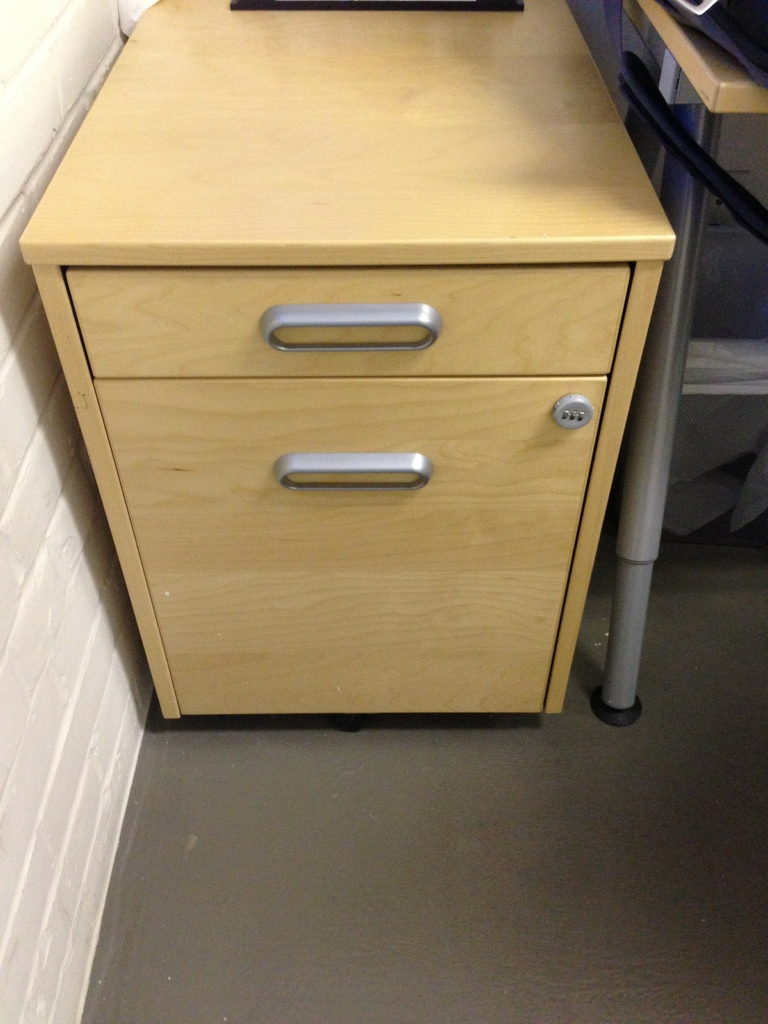cabinet door: (169, 384, 547, 715), (77, 266, 613, 371)
handle: (262, 300, 439, 354), (270, 438, 431, 495)
